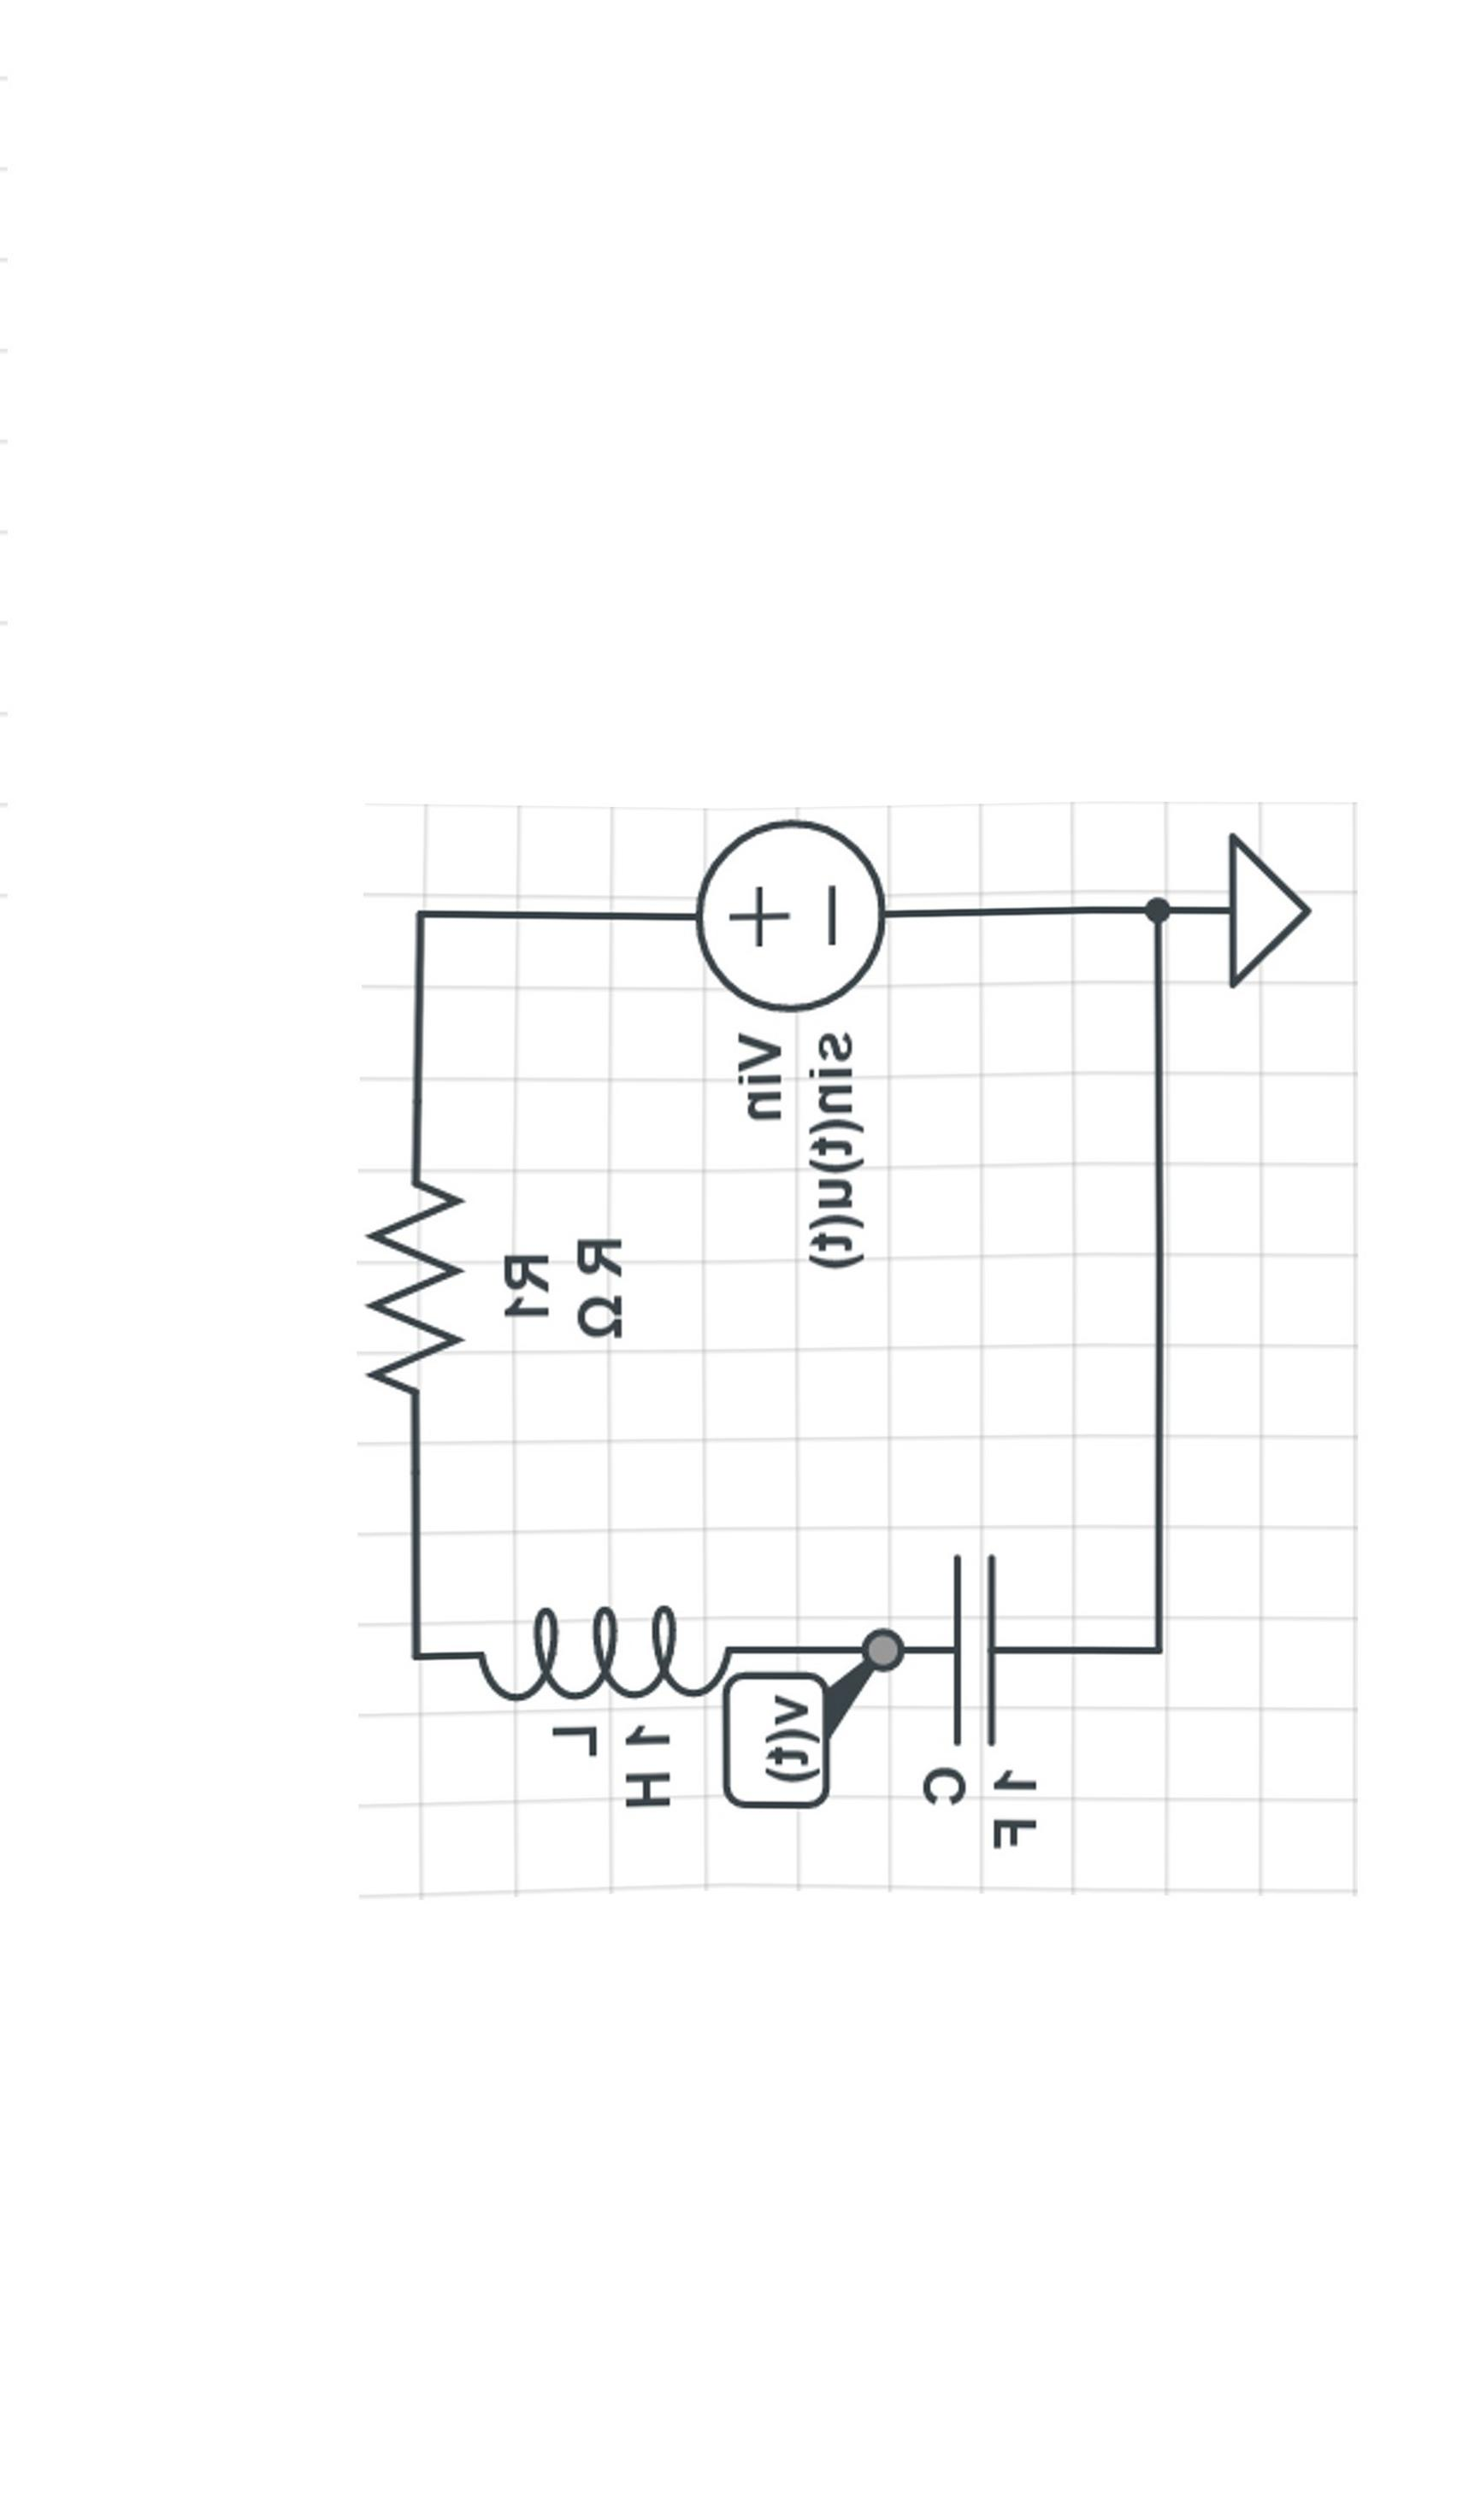Battery: (591, 766, 931, 1045)
